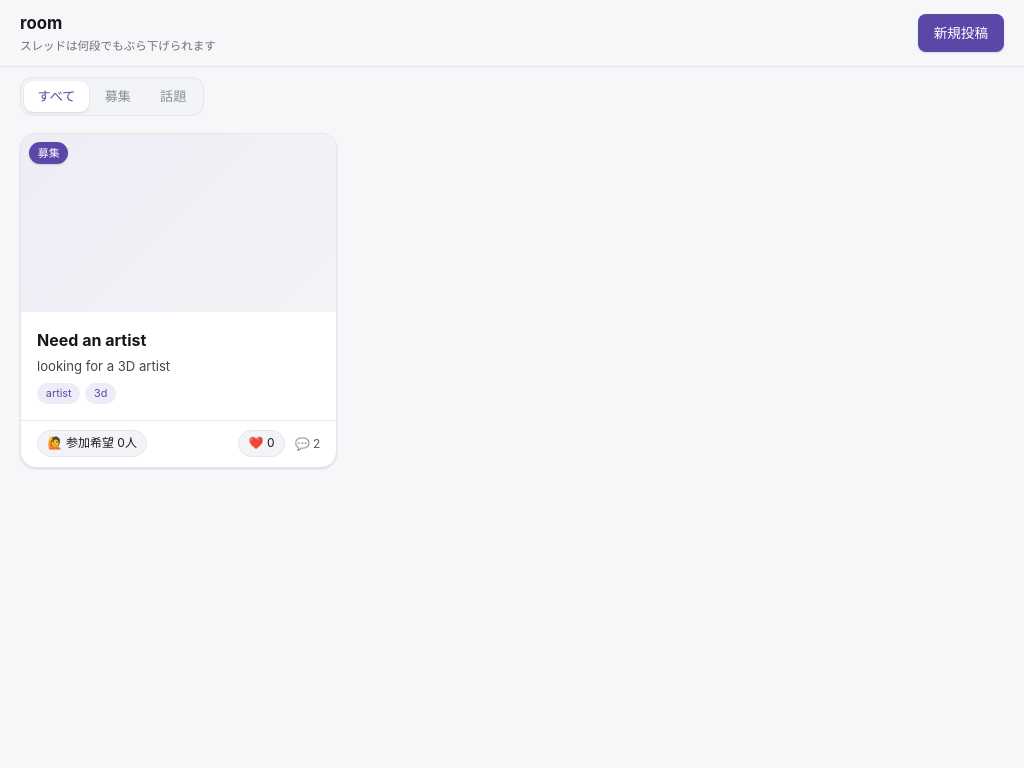
Test case: ProjectBoard (recursive rendering) › the back button returns from thread detail to the recruitment card grid
Step 1. Click the tab "募集" → (118, 96), box [91,81,144,112]
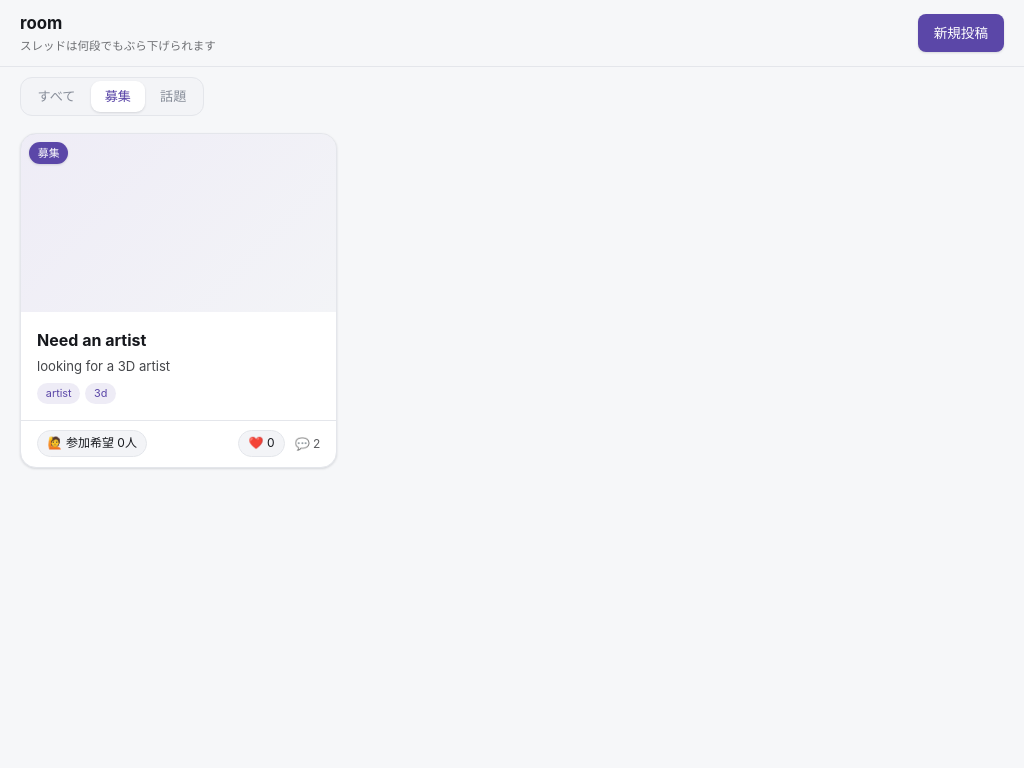
Step 2. Click the heading "Need an artist" → (92, 340), box [37,330,146,350]
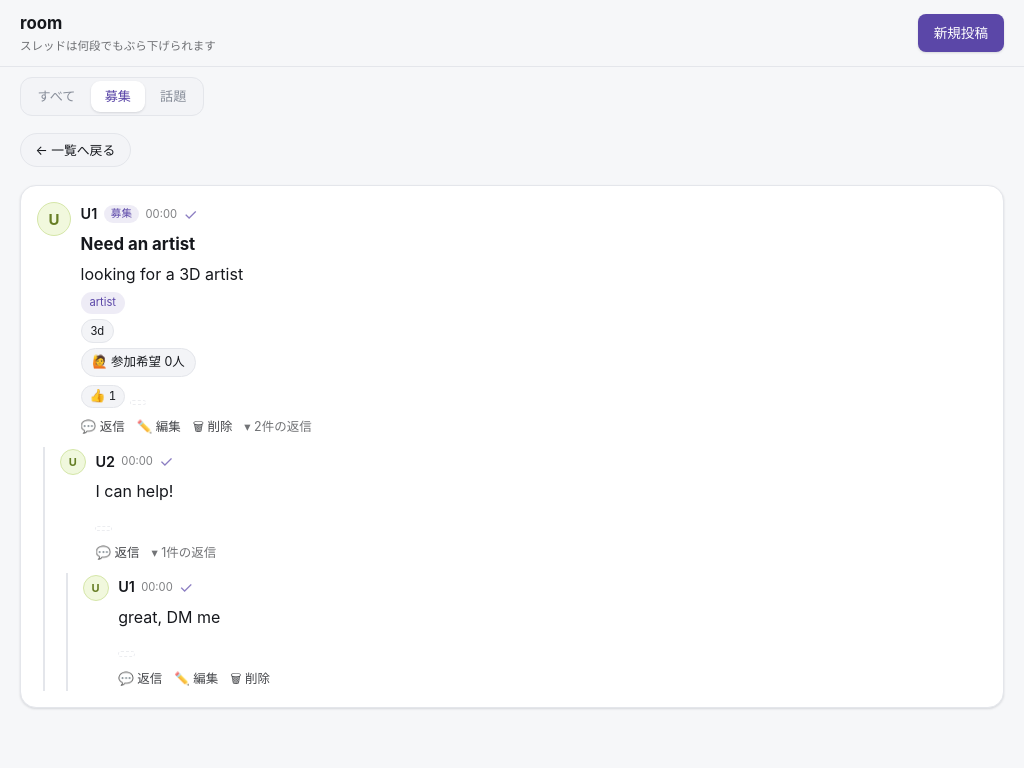
Check: the text "I can help!" is shown, box [95,481,174,501]
Step 3. Click the button "← 一覧へ戻る" → (75, 150), box [20,134,131,168]
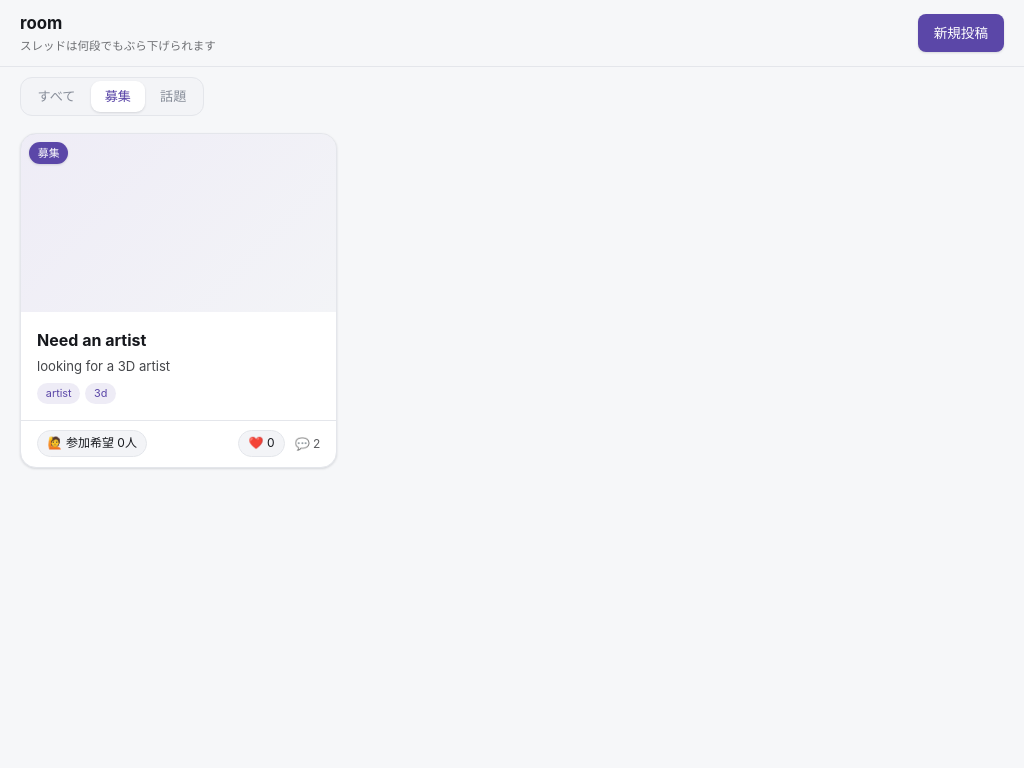
Check: the heading "Need an artist" is shown, box [37,330,146,350]
Check: the text "I can help!" is gone
